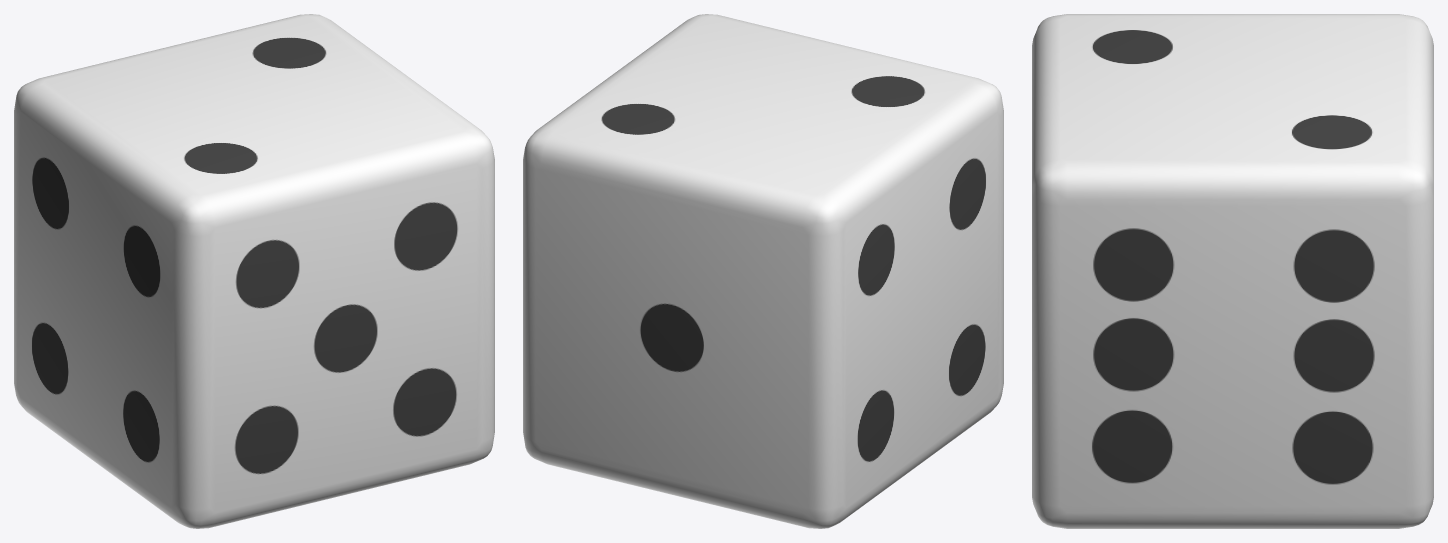
The model's file is dice.obj.
3 renders of one model, left to right at view 1: azimuth 30°, elevation 25°; view 2: azimuth 150°, elevation 25°; view 3: azimuth 270°, elevation 25°, orthographic. The views are drawn at different scales.
Visible parts, largest first — view 1: Dice_Low_Poly_Cube.000; view 2: Dice_Low_Poly_Cube.000; view 3: Dice_Low_Poly_Cube.000.
Boxes of the visible parts, bbox=[...] form: Dice_Low_Poly_Cube.000: bbox=[14, 14, 494, 528]; Dice_Low_Poly_Cube.000: bbox=[523, 14, 1003, 528]; Dice_Low_Poly_Cube.000: bbox=[1032, 14, 1433, 528].
Size of the model in its own units: 2 by 2 by 2.
1 material, 1 textured.
